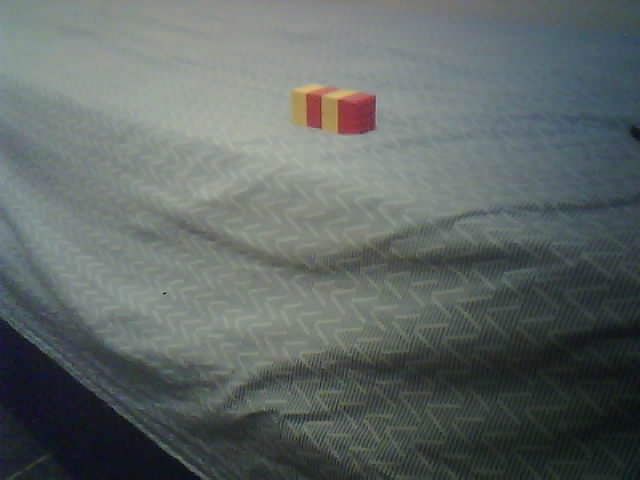lego: (288, 82, 377, 136)
